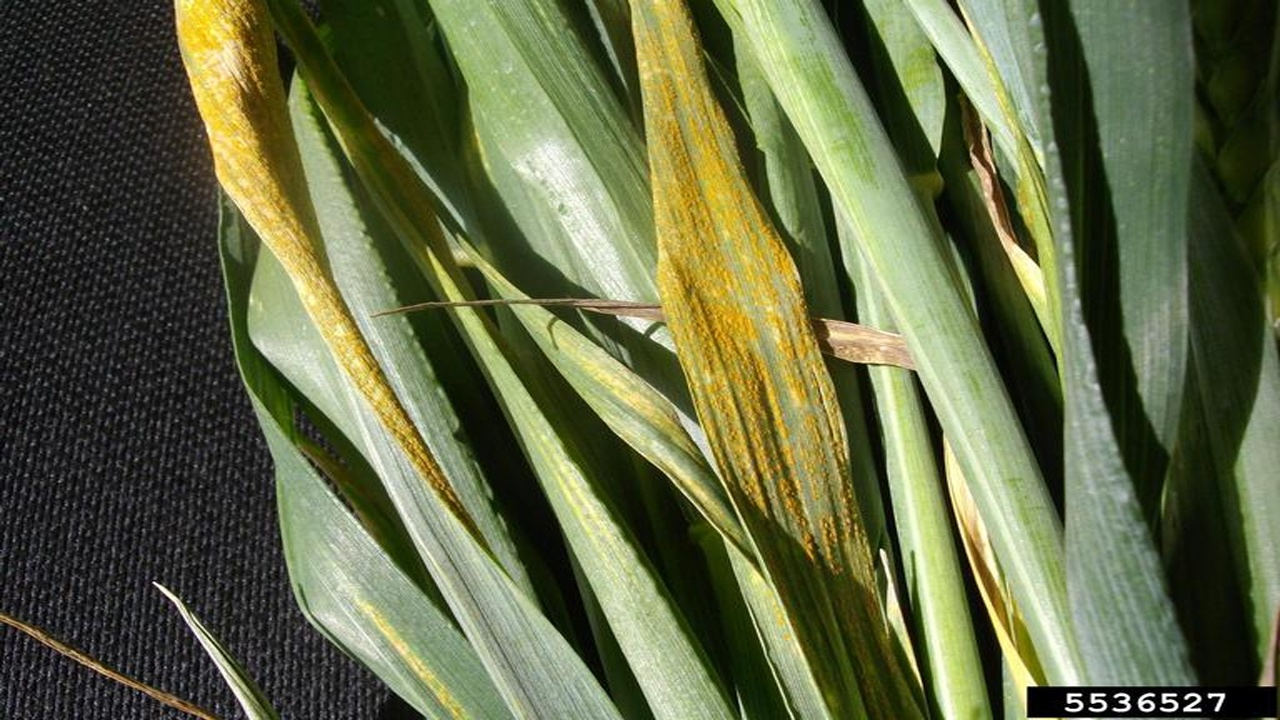stripe_rust: (627, 2, 918, 720), (173, 2, 470, 526), (408, 163, 753, 561), (286, 437, 482, 720)
